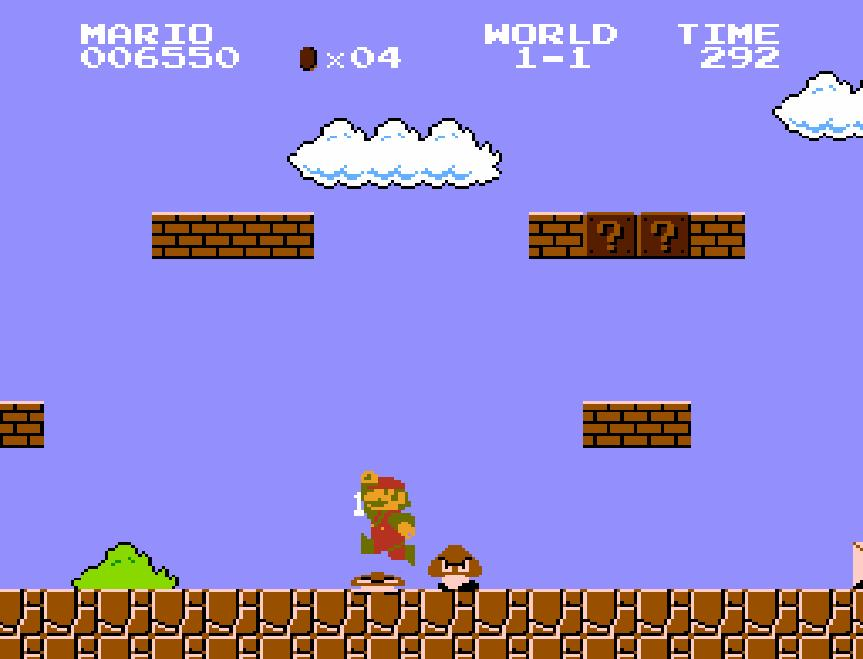big_mario: (358, 470, 416, 568)
